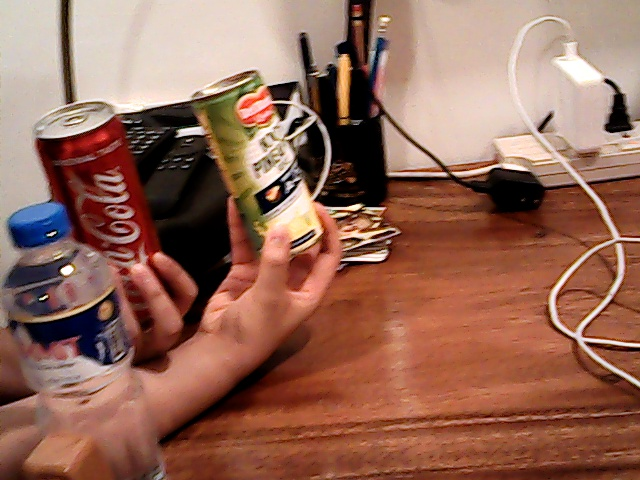Cola: (34, 111, 155, 246)
Pine Juice: (194, 84, 329, 248)
Summit Water: (14, 222, 143, 473)
